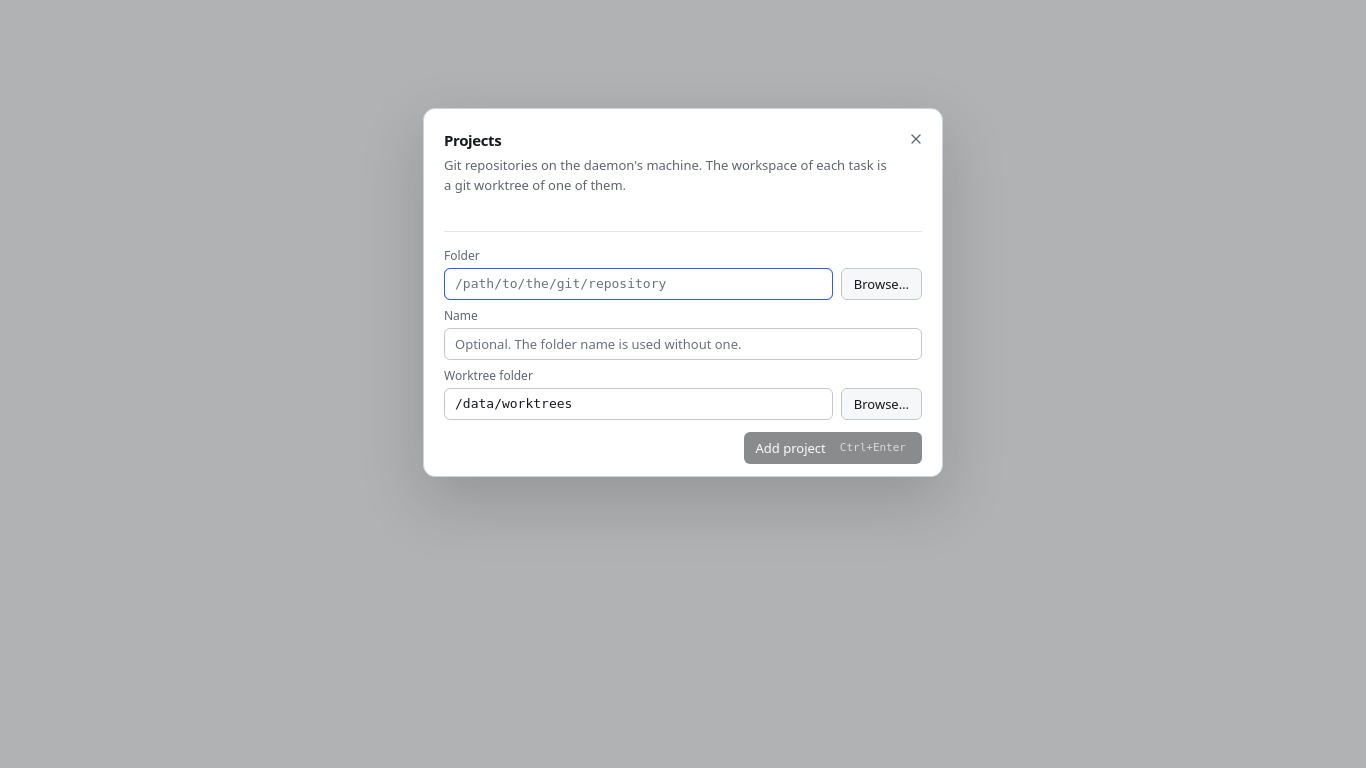
RepoPanel worktree folder › fills the folder with the picked path in the desktop app
This screenshot has width=1366, height=768.
Click the button with aria-label "Browse for the worktree folder": click(881, 404) [841, 388, 922, 420]
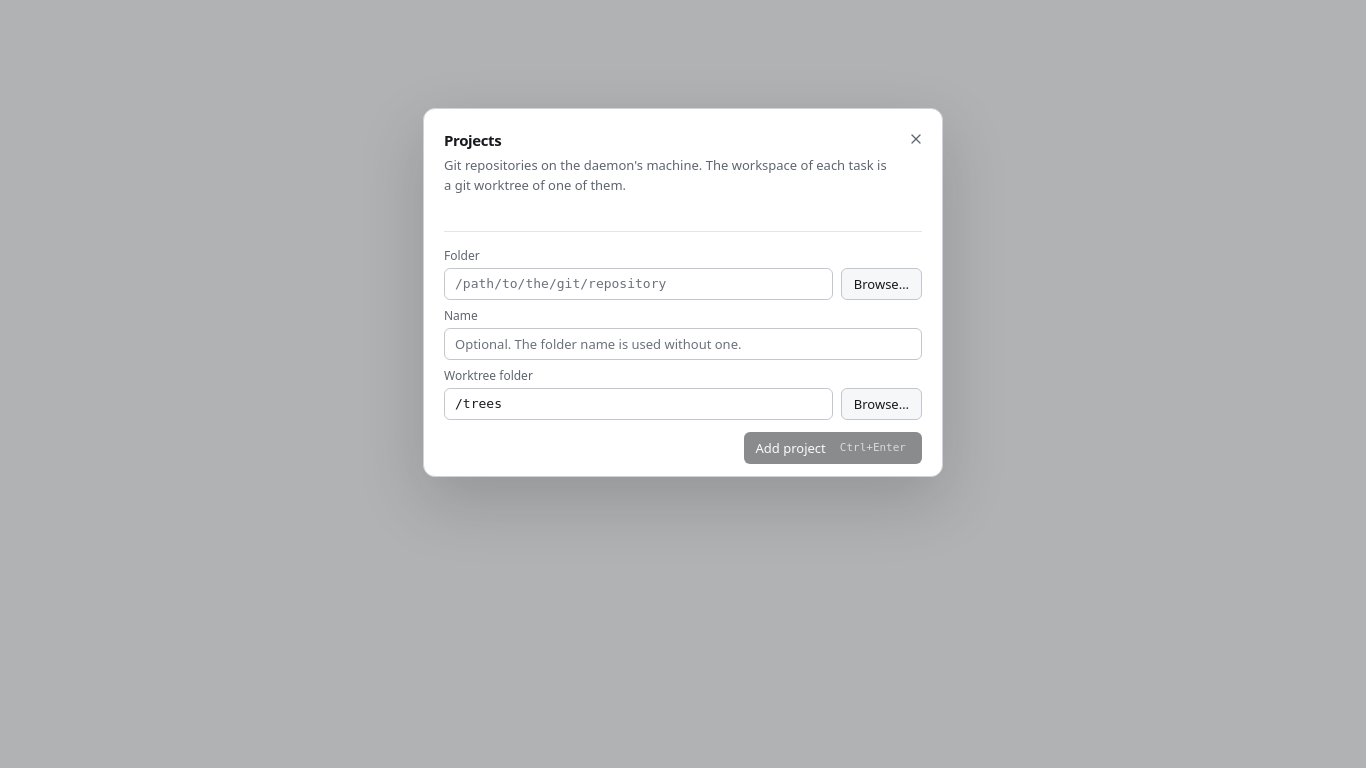
expect the field named "worktree folder" holds "/trees": met, box [444, 388, 833, 420]
